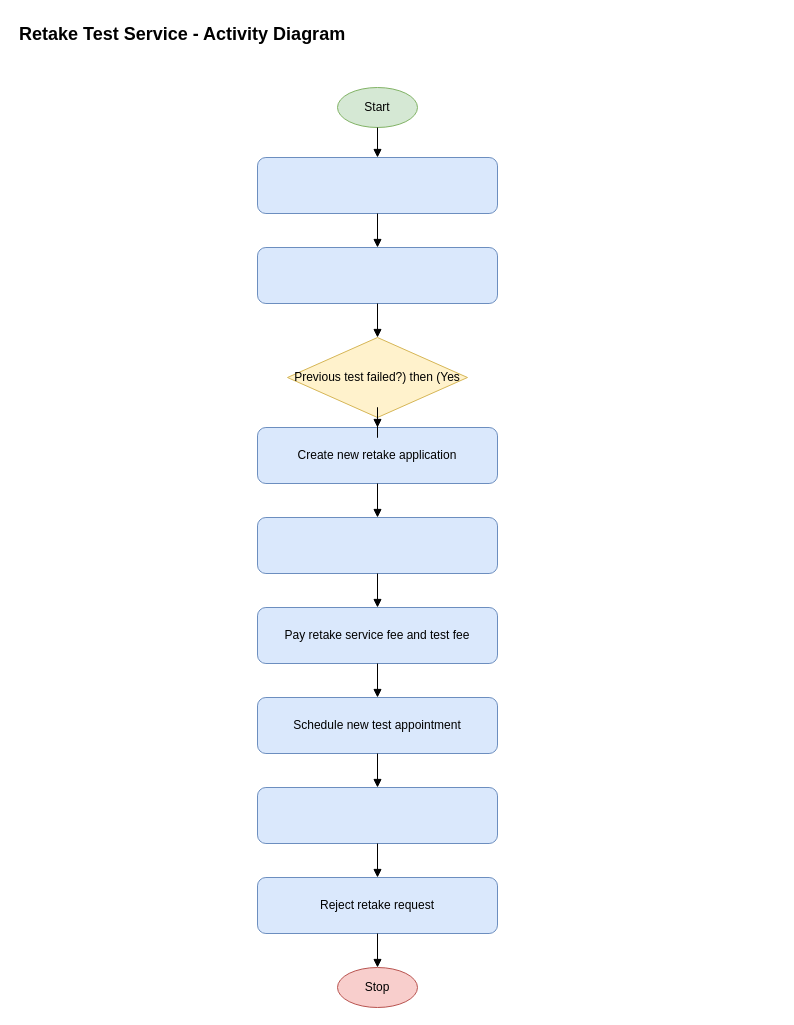
This 794x1025 diagram has some shape labels left out. The shapes that lost their labels are listed below. From the top down, each one's centre as x and y in pixels, then its label:
[377,185]: Enter previous test number
[377,275]: Retrieve previous test result
[377,545]: Link retake application to original application
[377,815]: Display appointment confirmation
